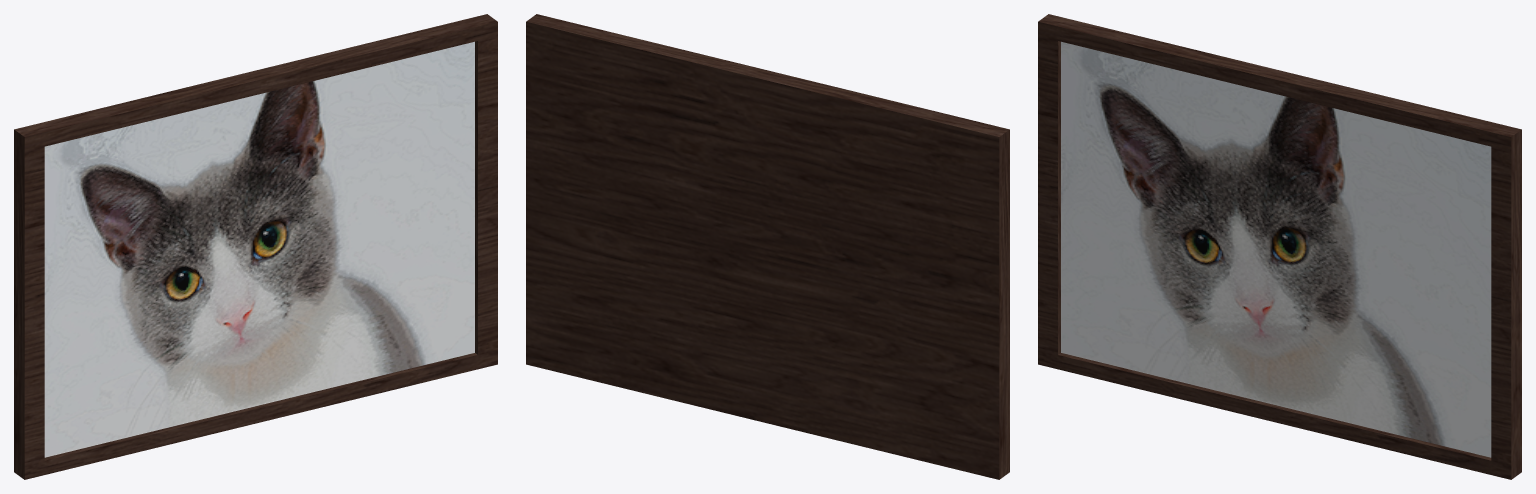
Rendered from PhotoFrame_3.fbx.
3 views of the same model, side by side, from view 1: azimuth 30°, elevation 25°; view 2: azimuth 150°, elevation 25°; view 3: azimuth 330°, elevation 25° (orthographic).
Visible parts, largest first — view 1: PhotoFrame_3; view 2: PhotoFrame_3; view 3: PhotoFrame_3.
Part boxes in pixels (left/top/right/bottom): PhotoFrame_3: left=14, top=14, right=497, bottom=479; PhotoFrame_3: left=526, top=14, right=1009, bottom=479; PhotoFrame_3: left=1038, top=14, right=1521, bottom=479.
Size of the model in its own units: 27.3 by 18.9 by 1.05.
